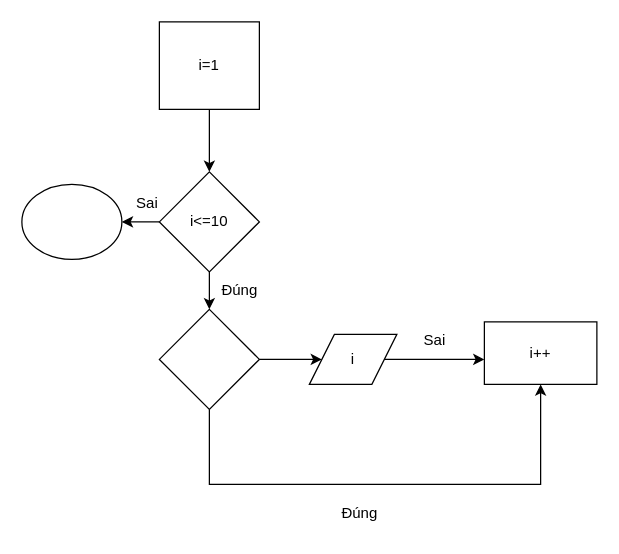
Some shapes in this 619 by 554 pixel diagram are drawn without their labels. Here are the shapes that lost their labels. From the top down, the centre of each, then its label:
At pixel 71 221: "End".
At pixel 208 358: "i%2=0".
